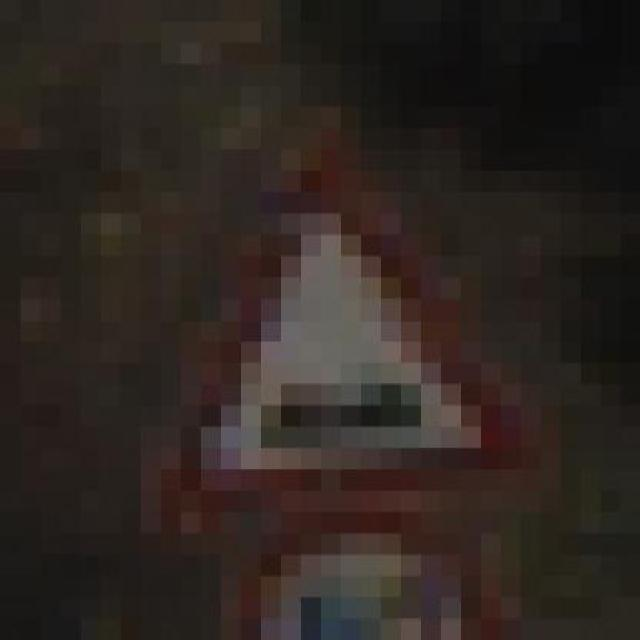Uneven Road: (140, 128, 540, 512)
